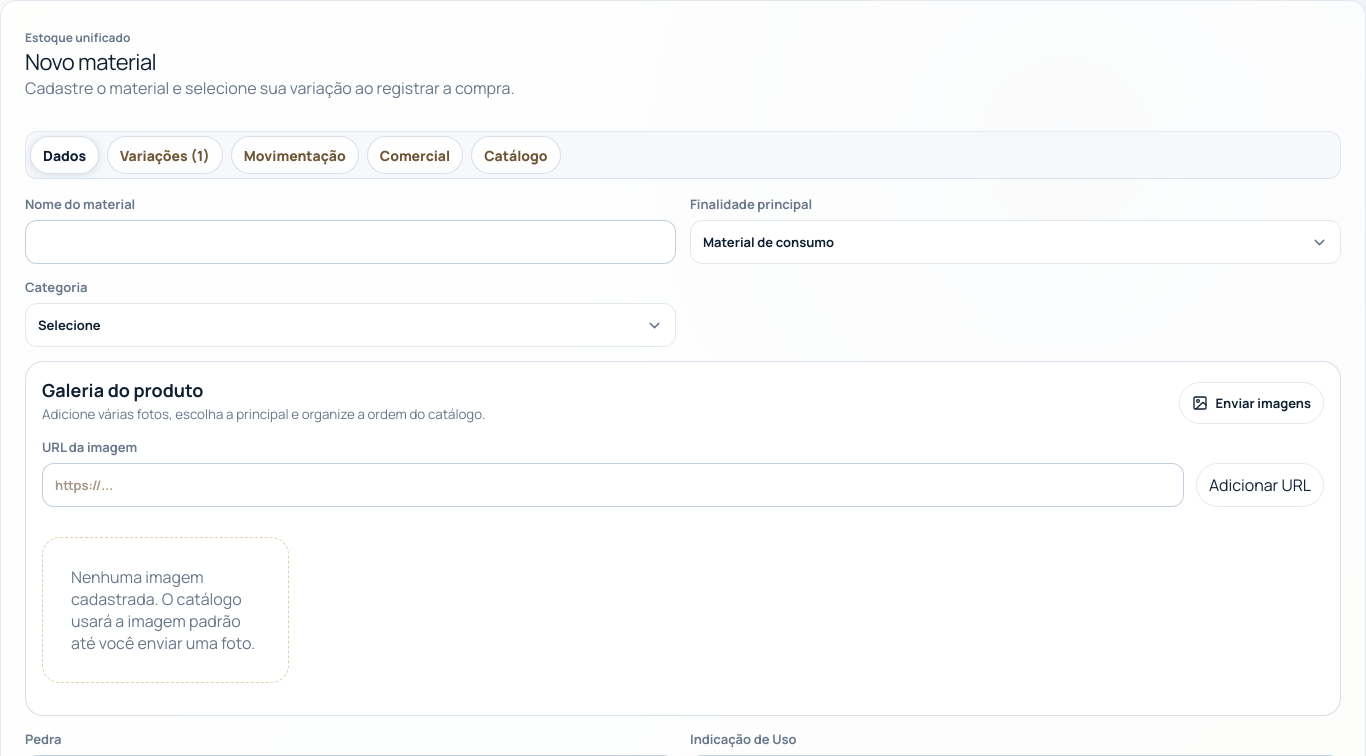
material usa categorias próprias sem oferecer categorias de joias
This screenshot has width=1366, height=756.
Click the dropdown named "Categoria": x=69, y=325 [25,303,676,347]
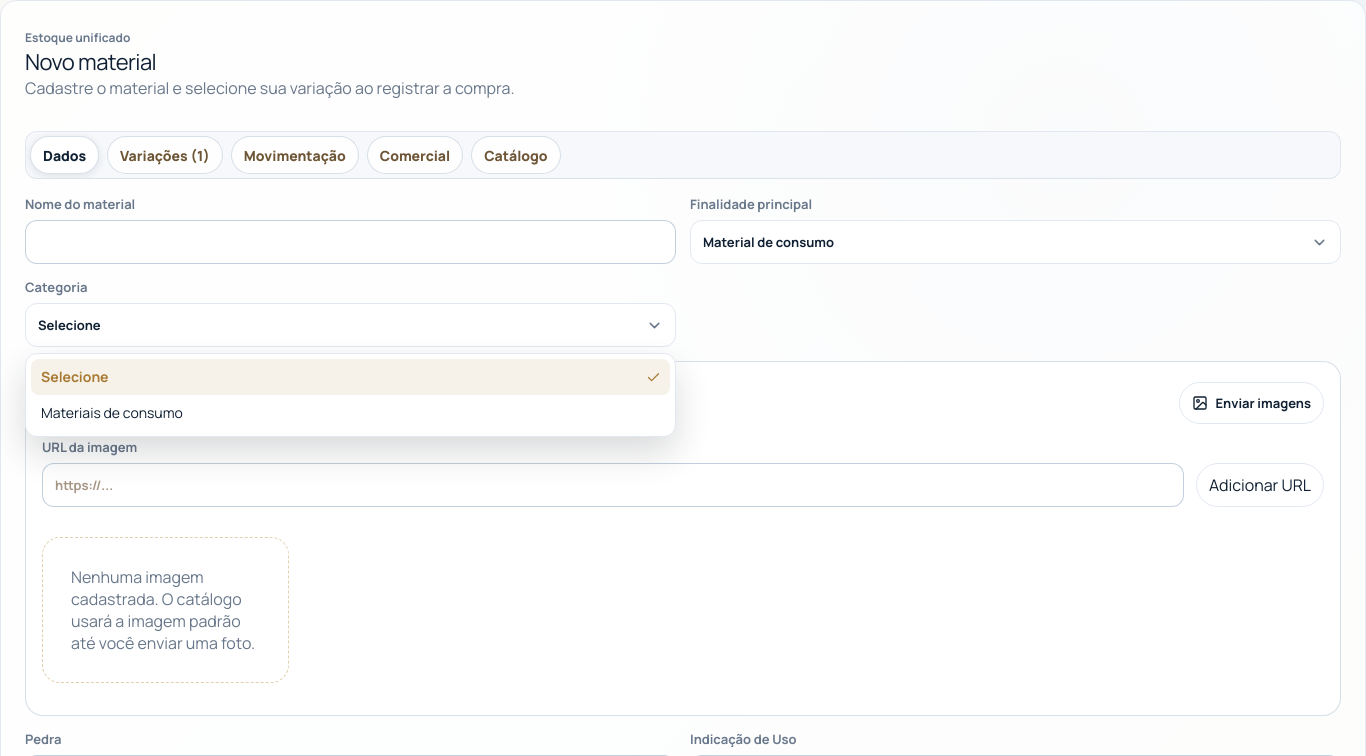
Now the option "Materiais de consumo" is shown, box [41,403,183,422]
